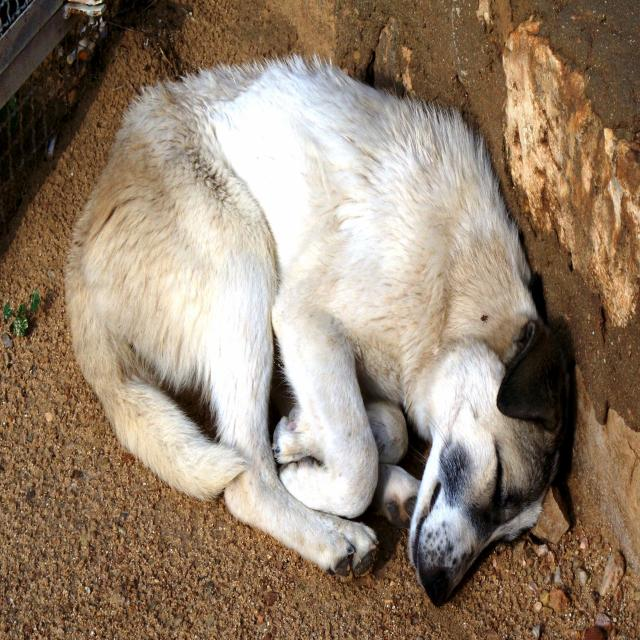laying down: (59, 52, 584, 612)
